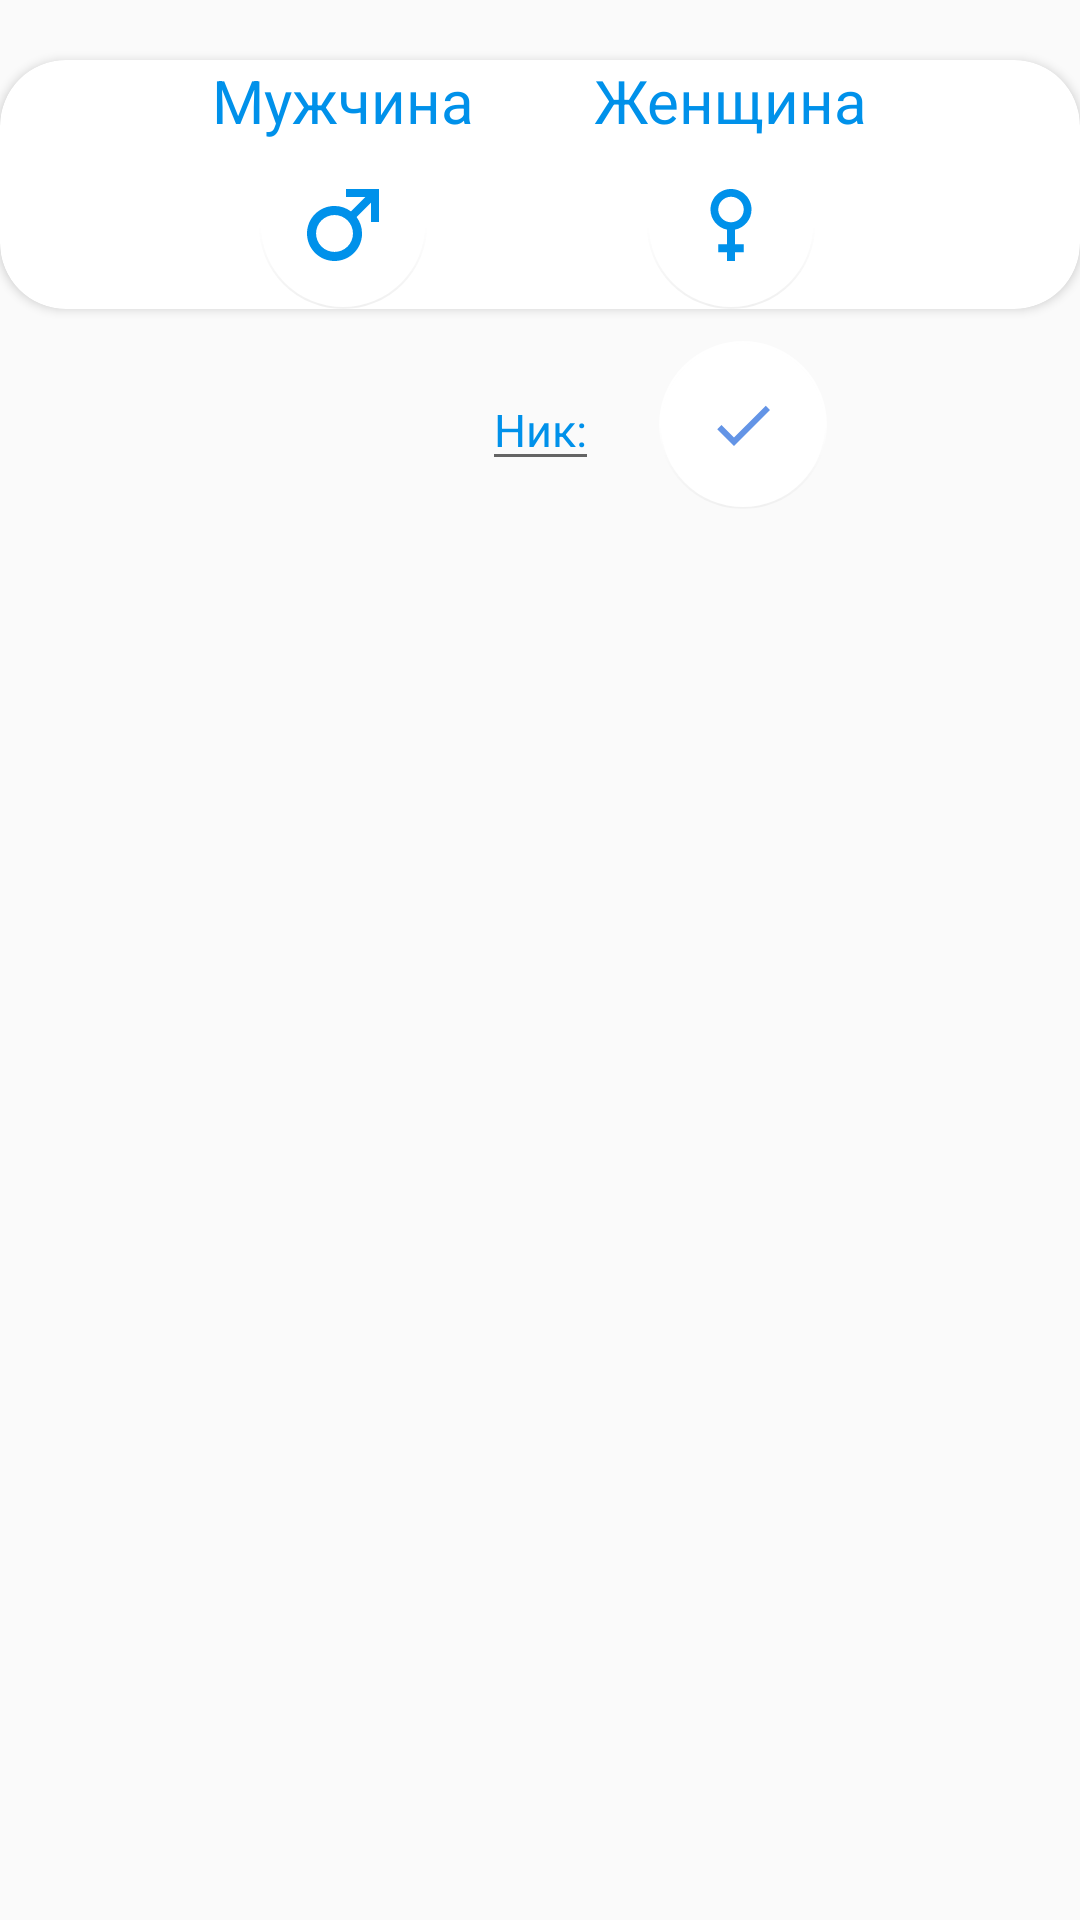

Named icons in this screenshot (1080px×1920px) and their bounding boxes, (x1, y1, x2, y2):
check: (717, 406, 770, 446)
gender boy: (307, 189, 379, 261)
gender girl: (710, 189, 752, 261)
